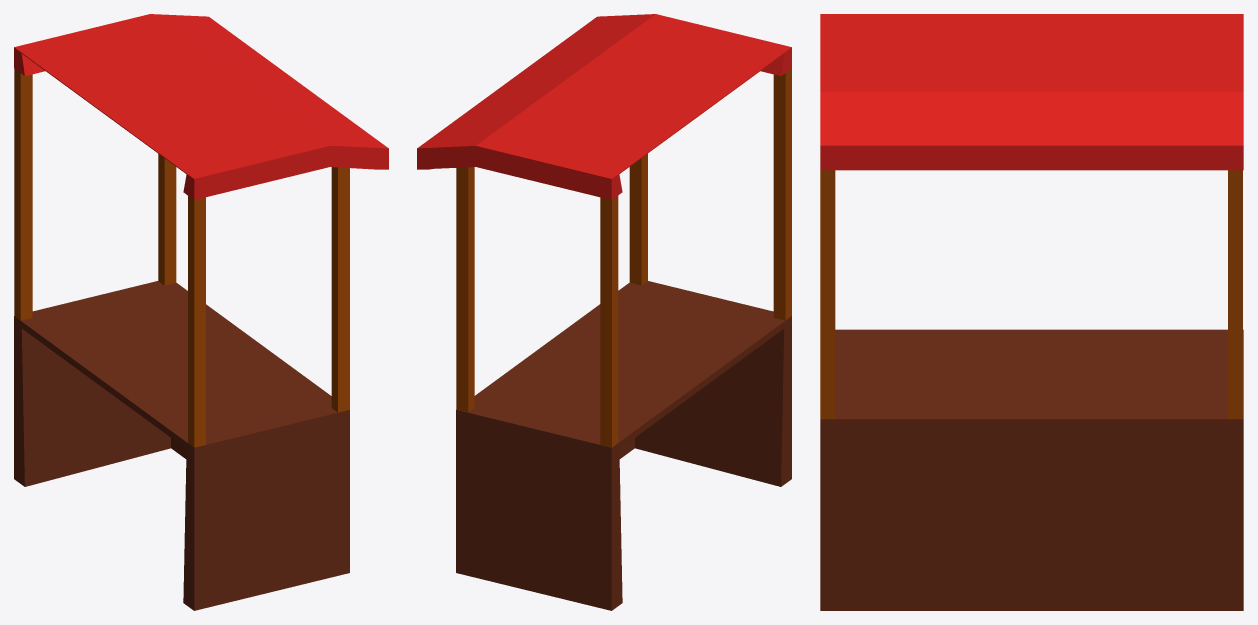
The model's file is Stall.fbx.
The picture shows the model from 3 angles, left to right: view 1: azimuth 30°, elevation 25°; view 2: azimuth 150°, elevation 25°; view 3: azimuth 270°, elevation 25°; orthographic projection. The views are drawn at different scales.
Visible parts, largest first — view 1: Cube, Cube.005, Cube.004, Cube.002, Cube.003, Cube.001; view 2: Cube, Cube.005, Cube.004, Cube.003, Cube.001, Cube.002; view 3: Cube, Cube.005, Cube.002, Cube.001.
Part boxes in pixels (left/top/right/bottom): Cube: left=14, top=281, right=349, bottom=610; Cube.005: left=14, top=14, right=388, bottom=199; Cube.004: left=14, top=69, right=32, bottom=320; Cube.002: left=331, top=167, right=349, bottom=412; Cube.003: left=188, top=196, right=205, bottom=447; Cube.001: left=158, top=154, right=176, bottom=285; Cube: left=456, top=281, right=791, bottom=610; Cube.005: left=417, top=14, right=791, bottom=199; Cube.004: left=600, top=196, right=618, bottom=447; Cube.003: left=773, top=68, right=791, bottom=320; Cube.001: left=456, top=167, right=474, bottom=412; Cube.002: left=629, top=153, right=647, bottom=285; Cube: left=820, top=329, right=1243, bottom=610; Cube.005: left=820, top=14, right=1243, bottom=170; Cube.002: left=820, top=170, right=835, bottom=418; Cube.001: left=1228, top=170, right=1242, bottom=418.
Bounding box in the file's own units: 250 × 529 × 400.
